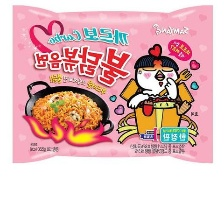snack: (0, 0, 224, 169)
